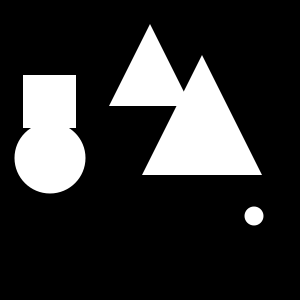circle: (23, 75, 76, 128)
rectangle: (14, 122, 85, 193), (245, 206, 264, 225)
triangle: (142, 55, 262, 175), (109, 24, 191, 106)
